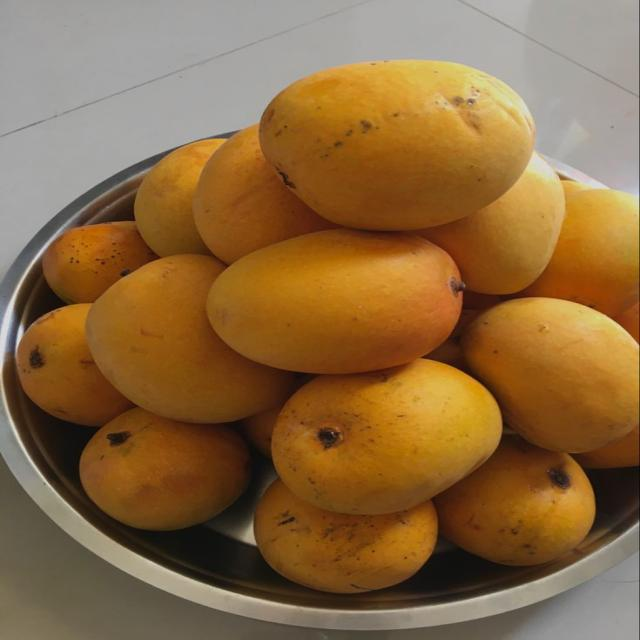mango: (260, 60, 534, 230), (208, 229, 462, 373), (272, 359, 502, 514), (87, 255, 292, 423), (461, 298, 638, 452), (435, 436, 595, 565), (419, 153, 565, 294), (80, 409, 250, 530), (255, 480, 437, 593), (193, 125, 335, 263), (518, 190, 639, 316), (17, 304, 132, 426), (135, 139, 225, 256), (42, 221, 157, 303), (425, 309, 481, 372), (574, 427, 639, 468), (239, 405, 282, 458), (614, 303, 639, 342), (463, 291, 504, 310), (561, 180, 592, 196)
